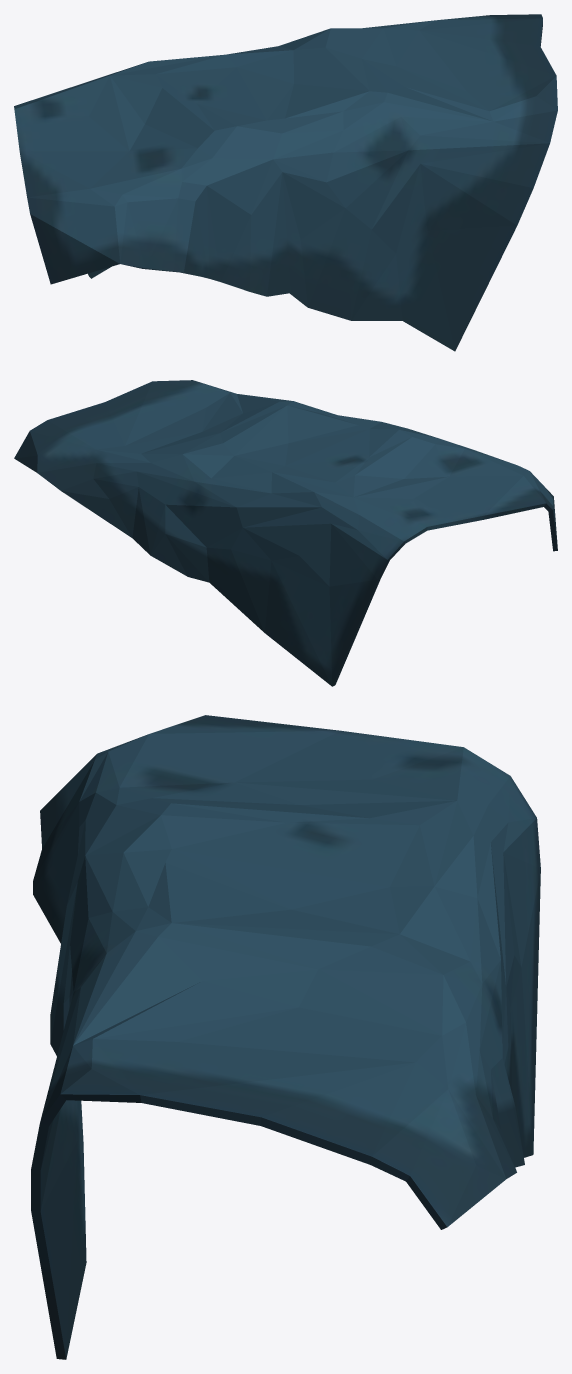
File: apoc_SM_Prop_Car_Wrecked_Stack_01_Tarp.gltf
3 renders of one model, top to bottom at view 1: azimuth 30°, elevation 25°; view 2: azimuth 150°, elevation 25°; view 3: azimuth 270°, elevation 25°, orthographic. The views are drawn at different scales.
Visible parts, largest first — view 1: SM_Prop_Car_Wrecked_Stack_01_Tarp; view 2: SM_Prop_Car_Wrecked_Stack_01_Tarp; view 3: SM_Prop_Car_Wrecked_Stack_01_Tarp.
Boxes of the visible parts, x1,y1,x2,y2 form: SM_Prop_Car_Wrecked_Stack_01_Tarp: (14,14,557,351); SM_Prop_Car_Wrecked_Stack_01_Tarp: (14,380,557,686); SM_Prop_Car_Wrecked_Stack_01_Tarp: (31,715,540,1359).
Bounding box in the file's own units: 5.03 × 2.02 × 2.35.
1 material, 1 textured.
